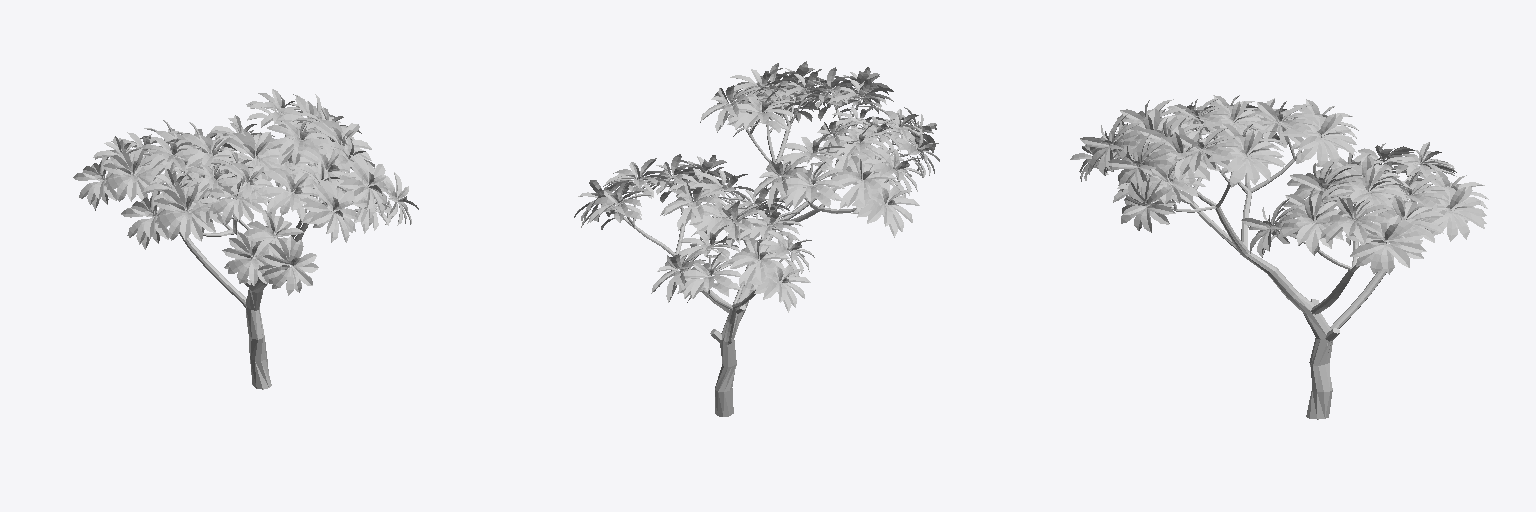
File: trees.obj
The picture shows the model from 3 angles: view 1: azimuth 30°, elevation 25°; view 2: azimuth 150°, elevation 25°; view 3: azimuth 270°, elevation 25°; orthographic projection.
Parts seen in each view (by area): view 1: JASMIM+MANGA__40, JASMIM+MANGA__Vegetation_Bark_Maple_1; view 2: JASMIM+MANGA__40, JASMIM+MANGA__Vegetation_Bark_Maple_1; view 3: JASMIM+MANGA__40, JASMIM+MANGA__Vegetation_Bark_Maple_1.
Part boxes in pixels (x1,y1,x2,y2): JASMIM+MANGA__40: (73, 89, 418, 295); JASMIM+MANGA__Vegetation_Bark_Maple_1: (137, 121, 388, 389); JASMIM+MANGA__40: (574, 61, 939, 312); JASMIM+MANGA__Vegetation_Bark_Maple_1: (614, 93, 908, 416); JASMIM+MANGA__40: (1070, 95, 1488, 274); JASMIM+MANGA__Vegetation_Bark_Maple_1: (1150, 121, 1427, 419).
Bounding box in the file's own units: 7.77 × 8.48 × 10.83.